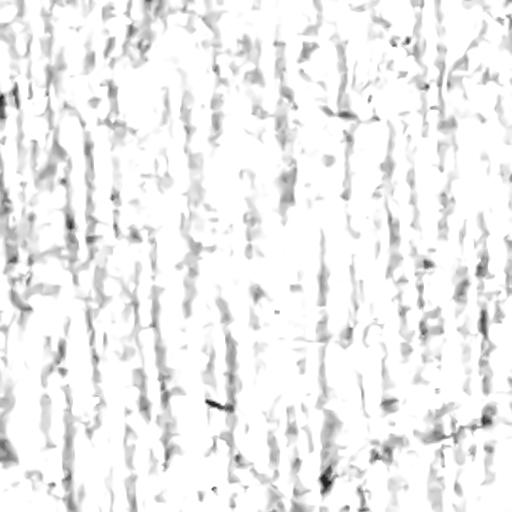egg: (205, 398, 233, 412)
